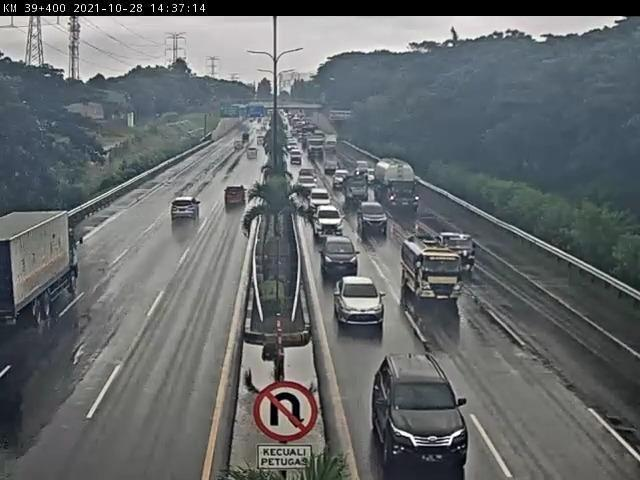car: (371, 354, 469, 473), (333, 271, 383, 325), (438, 227, 484, 273), (321, 237, 358, 277), (163, 195, 204, 229), (221, 179, 251, 212), (359, 206, 388, 236), (316, 204, 344, 234), (307, 182, 327, 206), (295, 171, 316, 191), (331, 168, 345, 187), (244, 154, 258, 169), (290, 148, 302, 163), (232, 144, 243, 155)
truck: (1, 213, 101, 333), (396, 236, 462, 307), (370, 157, 416, 209), (340, 172, 367, 199)
